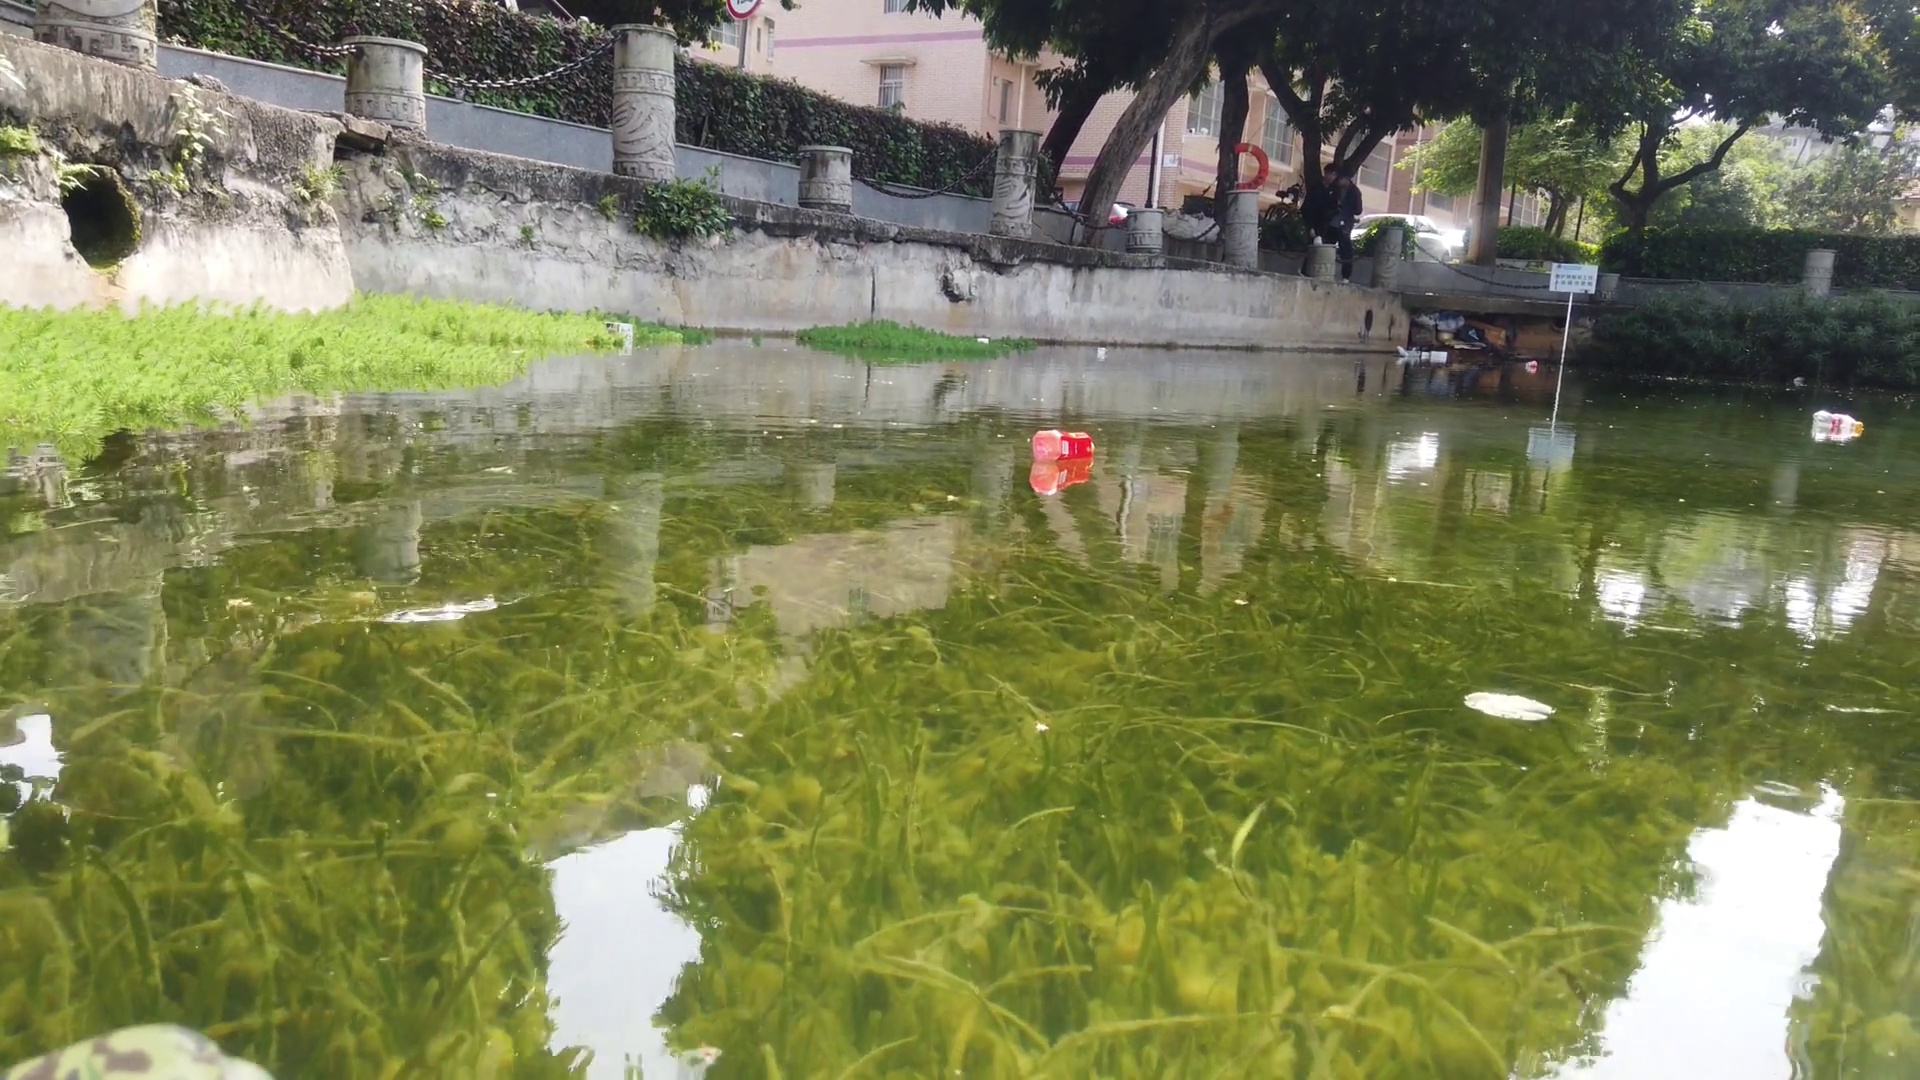bottle: (1031, 429, 1101, 467), (1809, 407, 1865, 434), (1523, 356, 1540, 371), (1791, 373, 1808, 386)
carton: (603, 316, 636, 340), (1429, 347, 1453, 357), (1095, 342, 1113, 355), (976, 338, 988, 349), (1419, 348, 1428, 357)
plastic: (1396, 342, 1418, 355)
